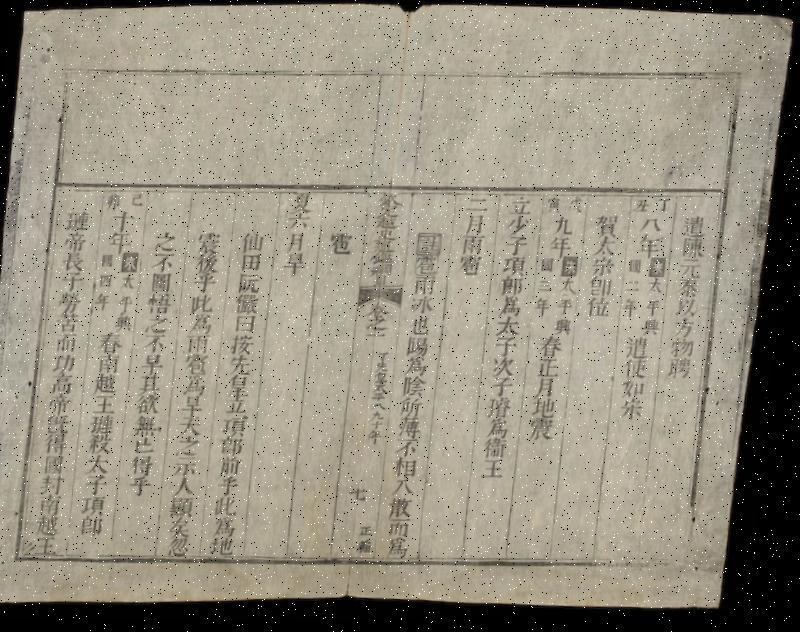c: (416, 230, 448, 259), (226, 387, 257, 416), (594, 215, 624, 243), (328, 231, 358, 259), (228, 374, 258, 402), (531, 418, 562, 444), (392, 496, 423, 522), (64, 208, 96, 233), (376, 195, 408, 220), (197, 230, 226, 257), (682, 216, 712, 242), (637, 236, 668, 261), (136, 414, 168, 438), (34, 534, 67, 557), (540, 336, 570, 361), (489, 397, 520, 421), (493, 357, 524, 381), (90, 432, 121, 456), (83, 514, 114, 538), (99, 330, 130, 354), (369, 264, 400, 288), (180, 415, 212, 438), (284, 252, 312, 278), (290, 192, 318, 218), (178, 436, 208, 460), (173, 496, 203, 520), (95, 372, 125, 396), (236, 294, 266, 318), (133, 453, 163, 477), (681, 241, 712, 264), (399, 418, 430, 441), (38, 513, 69, 536), (224, 415, 255, 438), (84, 494, 116, 516), (507, 213, 534, 239), (670, 359, 699, 383), (588, 299, 617, 323), (186, 354, 215, 378), (460, 256, 489, 280), (404, 376, 433, 400), (231, 334, 260, 358), (489, 418, 518, 442), (486, 438, 515, 462), (52, 372, 82, 395), (132, 475, 162, 498), (622, 401, 652, 424), (138, 393, 168, 416), (191, 293, 221, 316), (503, 256, 533, 279), (222, 435, 252, 458), (220, 455, 250, 478), (216, 516, 246, 539), (401, 398, 432, 420), (92, 412, 123, 434), (628, 338, 656, 362), (242, 231, 270, 255), (154, 230, 182, 254), (239, 272, 267, 296), (149, 292, 177, 316), (140, 373, 169, 396), (217, 495, 246, 518), (536, 378, 565, 401), (94, 392, 123, 415), (87, 474, 117, 496), (187, 334, 217, 356), (591, 259, 621, 281), (397, 458, 427, 480), (42, 473, 72, 495), (625, 360, 655, 382), (175, 476, 205, 498), (492, 378, 522, 400), (552, 218, 579, 242), (465, 214, 492, 238), (142, 352, 170, 375), (50, 392, 78, 415), (111, 210, 139, 233), (372, 232, 404, 252), (183, 394, 212, 416), (89, 454, 118, 476), (57, 312, 86, 334), (190, 314, 219, 336), (194, 273, 223, 295), (54, 352, 83, 374), (672, 340, 701, 362), (98, 352, 127, 374), (502, 277, 531, 299), (47, 433, 76, 455), (485, 460, 514, 482), (535, 398, 564, 420), (416, 256, 445, 278), (108, 230, 138, 251), (48, 413, 78, 434), (177, 457, 207, 478), (392, 538, 418, 562), (59, 290, 86, 313), (501, 297, 528, 320), (196, 254, 224, 276), (230, 356, 258, 378), (56, 332, 84, 354), (674, 320, 702, 342), (506, 237, 534, 259), (407, 357, 435, 379), (62, 251, 90, 273), (64, 231, 92, 253), (152, 252, 180, 274), (172, 518, 200, 540), (538, 360, 566, 382), (678, 280, 706, 302), (220, 475, 248, 497), (42, 493, 70, 515), (549, 238, 577, 260), (594, 240, 623, 261), (465, 196, 494, 217), (680, 263, 709, 284), (170, 538, 200, 558), (214, 537, 244, 557), (415, 276, 442, 298), (462, 236, 489, 258), (408, 337, 435, 359), (46, 453, 73, 475), (498, 318, 526, 339), (61, 271, 89, 292), (145, 333, 173, 354), (590, 279, 618, 300), (148, 314, 176, 335), (412, 296, 440, 317), (496, 338, 524, 359), (677, 300, 705, 321), (624, 380, 652, 401), (398, 440, 427, 460), (412, 316, 438, 338), (152, 272, 178, 294), (640, 219, 670, 238), (186, 376, 213, 397), (391, 520, 419, 540), (136, 436, 164, 456), (121, 250, 144, 274), (287, 232, 312, 254), (509, 199, 536, 219), (241, 254, 268, 274), (235, 314, 262, 334), (372, 250, 402, 268), (287, 214, 317, 232), (562, 258, 585, 280), (395, 480, 423, 498), (352, 486, 377, 506), (650, 260, 672, 282), (366, 318, 396, 334), (535, 299, 556, 320), (560, 280, 582, 300), (568, 200, 590, 220), (656, 199, 678, 219), (625, 300, 644, 323), (369, 304, 396, 320), (547, 198, 568, 218), (375, 218, 405, 232), (372, 411, 392, 431), (96, 292, 116, 312), (559, 300, 579, 320), (116, 314, 138, 332), (644, 322, 666, 340), (119, 293, 138, 313), (106, 192, 126, 211), (629, 260, 648, 280), (556, 320, 577, 338), (647, 302, 668, 320), (362, 539, 382, 557), (542, 260, 561, 278), (101, 252, 120, 270), (130, 190, 148, 209), (650, 282, 669, 300), (121, 274, 141, 291), (628, 280, 646, 298), (635, 201, 654, 218), (99, 273, 117, 290), (370, 430, 389, 446), (539, 280, 558, 296), (363, 524, 381, 539), (379, 352, 396, 365), (378, 362, 394, 375), (368, 333, 392, 341), (374, 394, 392, 404), (378, 384, 394, 395), (376, 404, 392, 414), (378, 375, 394, 385)
